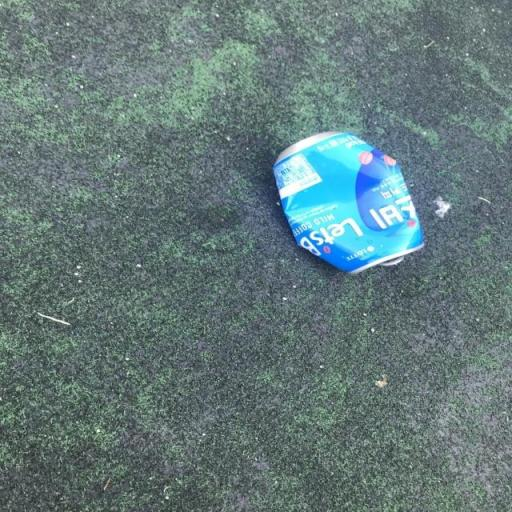metal: (260, 106, 450, 305)
